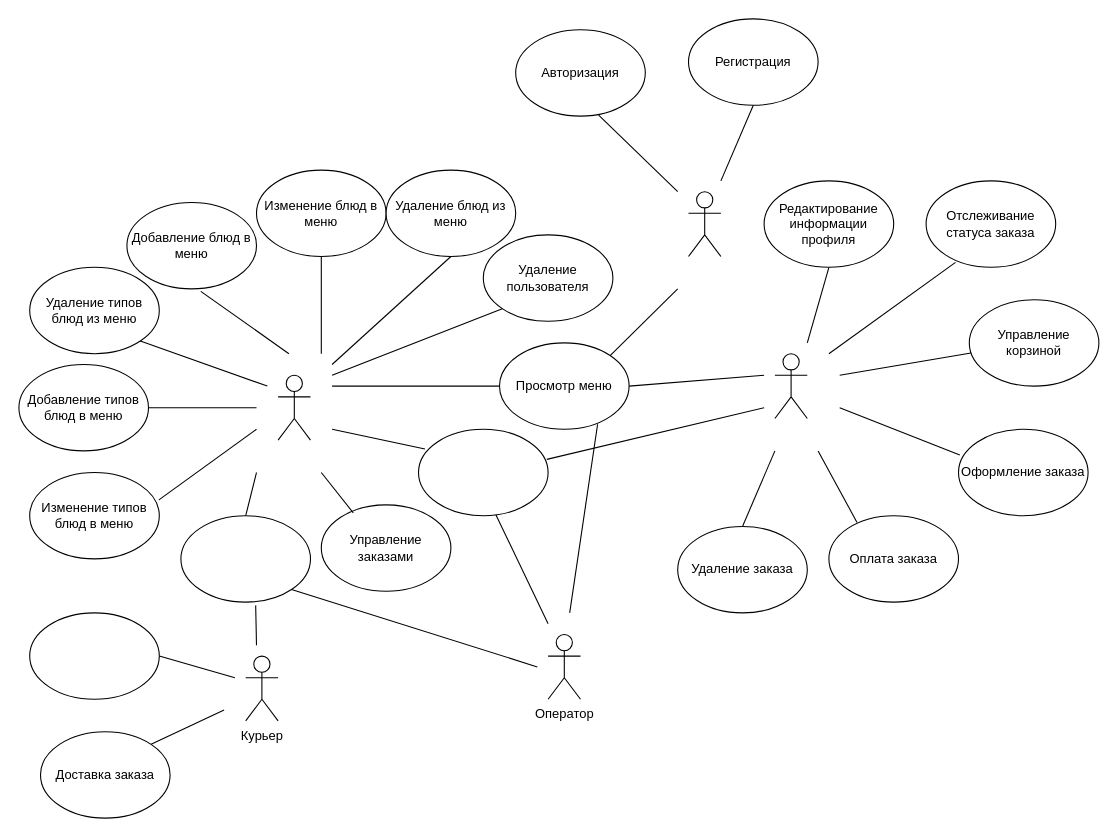
The diagram is 1118 pixels wide and 837 high, and some of its shapes have lost their labels. Each missing label, with the centre of its shape:
"Администратор" goes at [293,407].
"Гость" goes at [704,223].
"Изменение статуса заказа" goes at [245,558].
"Пользователь" goes at [790,385].
"Принятие заказа к доставке" goes at [94,655].
"Просмотр истории заказов" goes at [482,472].
